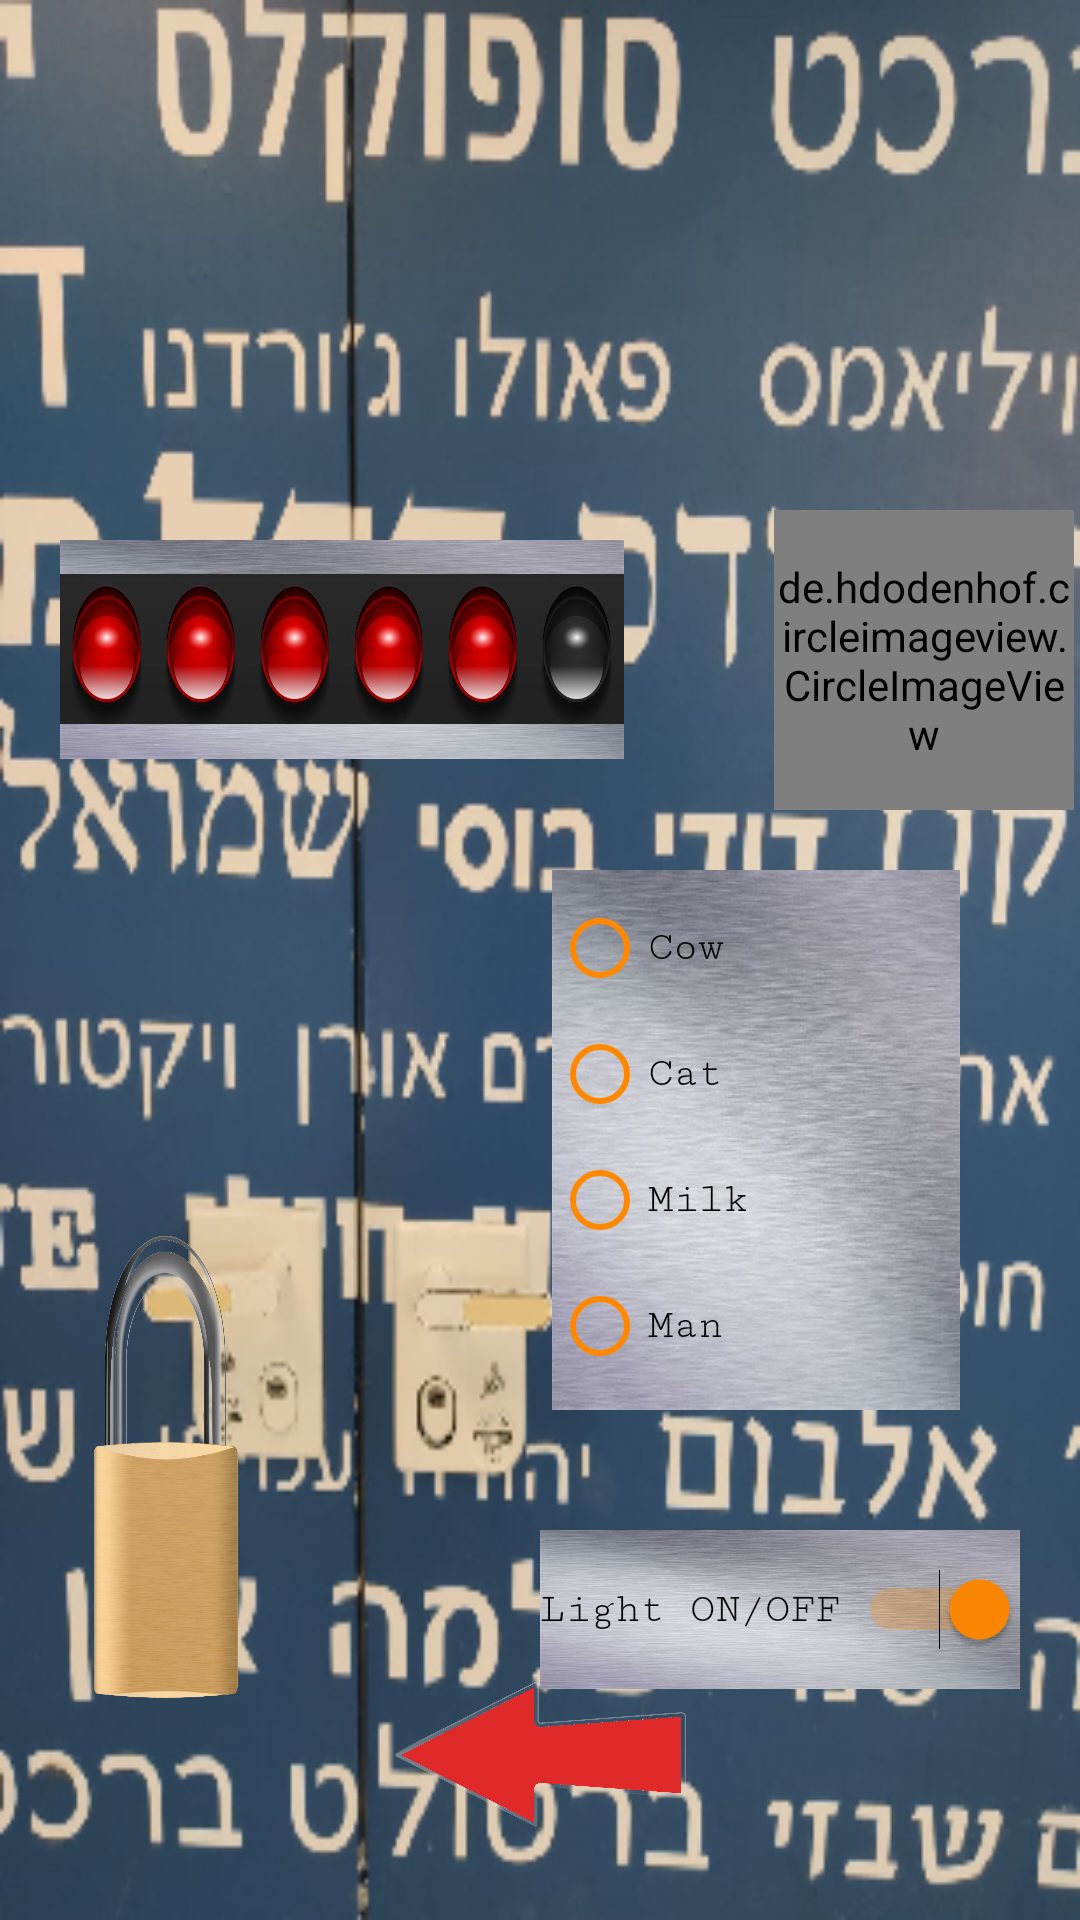

Where to tap for icons on this 1080px×1920px app screen, as (x,y):
arrowleft: (540,1755)
greylight: (576,647)
redlight: (107,647), (201,647), (295,647), (389,647), (483,647)
